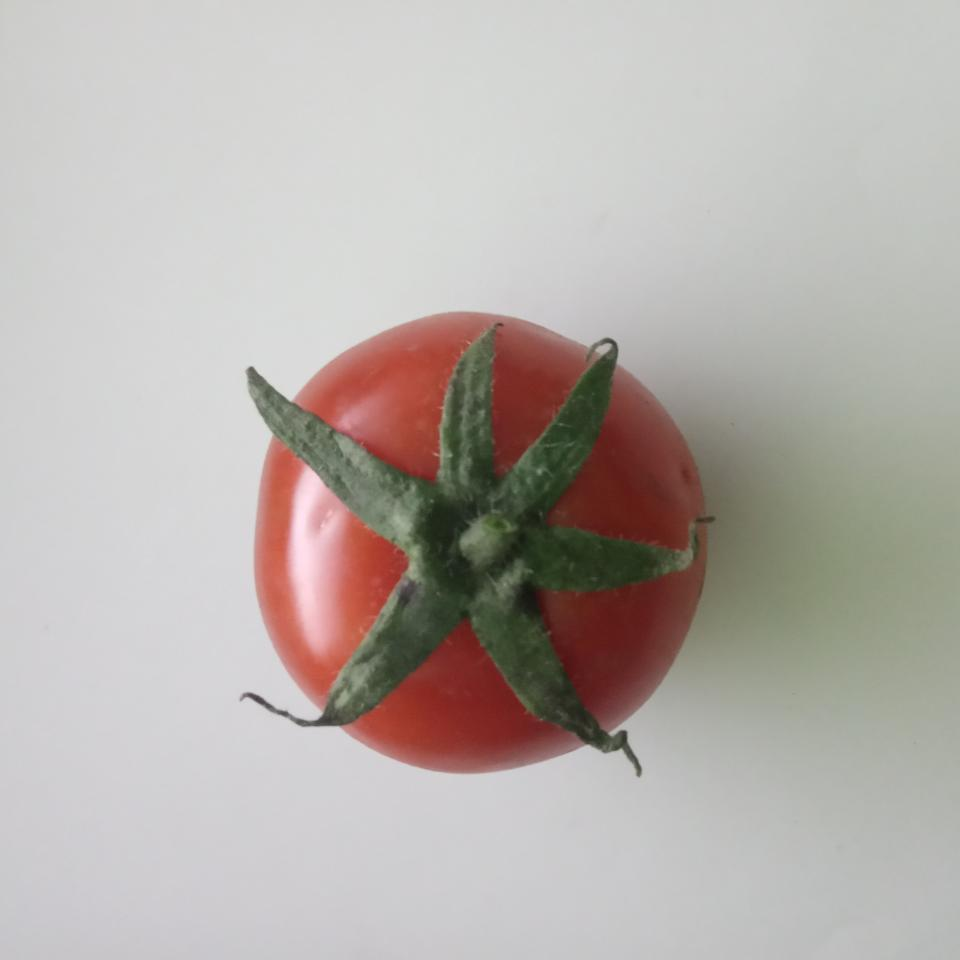Healthy: (234, 293, 724, 798)
